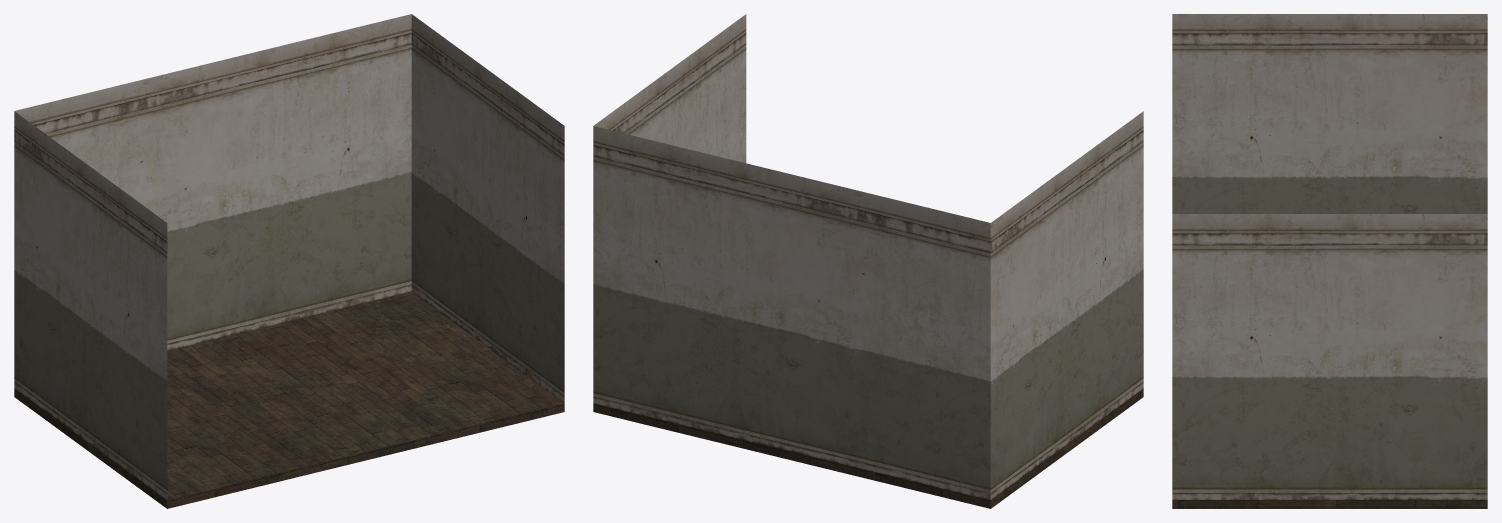
The model's file is hallway_end.fbx.
3 views of the same model, side by side, from view 1: azimuth 30°, elevation 25°; view 2: azimuth 150°, elevation 25°; view 3: azimuth 270°, elevation 25° (orthographic). The views are drawn at different scales.
Parts seen in each view (by area): view 1: hallway_end; view 2: hallway_end; view 3: hallway_end.
Part boxes in pixels (x1=…): hallway_end: x1=14, y1=14, x2=564, y2=508; hallway_end: x1=593, y1=14, x2=1143, y2=508; hallway_end: x1=1172, y1=14, x2=1487, y2=508.
Size of the model in its own units: 600 by 412 by 400.
